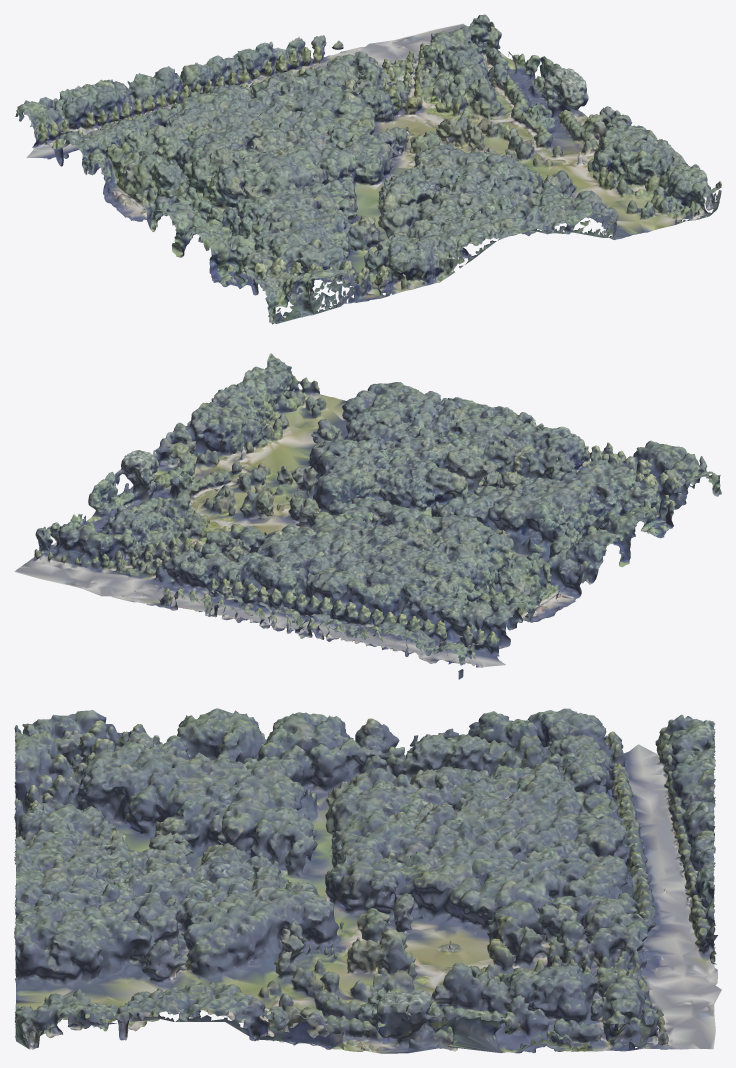
File: surface-detail-3890_58193.glb
The picture shows the model from 3 angles, top to bottom: view 1: azimuth 30°, elevation 25°; view 2: azimuth 150°, elevation 25°; view 3: azimuth 270°, elevation 25°; orthographic projection. The views are drawn at different scales.
Visible parts, largest first — view 1: world; view 2: world; view 3: world.
Boxes of the visible parts, <box> form: world: <box>15,14,721,324</box>; world: <box>14,353,721,679</box>; world: <box>14,708,721,1053</box>.
Size of the model in its own units: 374 by 33.39 by 365.
